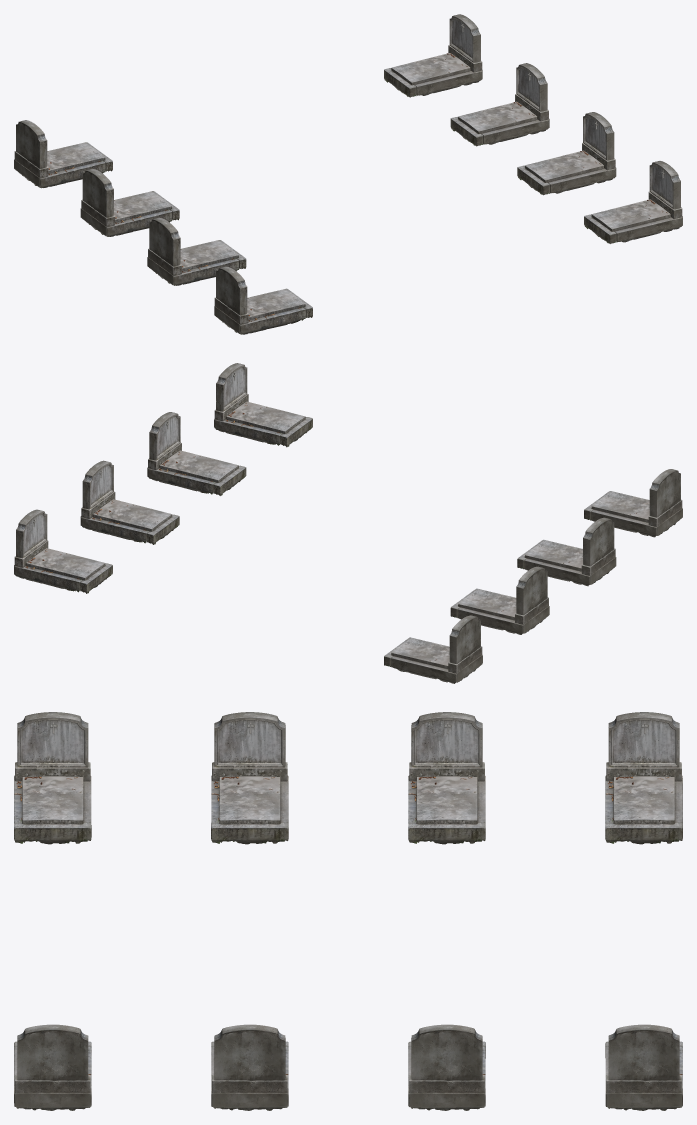
File: Tumbas.obj
The picture shows the model from 3 angles, top to bottom: view 1: azimuth 30°, elevation 25°; view 2: azimuth 150°, elevation 25°; view 3: azimuth 270°, elevation 25°; orthographic projection. The views are drawn at different scales.
Visible parts, largest first — view 1: tumba5, tumba6, tumba7, tumba8, tumba4, tumba2, tumba3, tumba1; view 2: tumba6, tumba5, tumba7, tumba8, tumba1, tumba3, tumba2, tumba4; view 3: tumba1, tumba4, tumba3, tumba2, tumba7, tumba8, tumba6, tumba5.
Part boxes in pixels (box(x1,y1,x2,y2)): tumba5: box(384, 14, 482, 97); tumba6: box(450, 63, 549, 146); tumba7: box(517, 112, 616, 195); tumba8: box(584, 161, 682, 243); tumba4: box(214, 266, 312, 334); tumba2: box(80, 169, 179, 236); tumba3: box(147, 217, 246, 285); tumba1: box(14, 120, 112, 188); tumba6: box(80, 460, 179, 544); tumba5: box(14, 509, 112, 593); tumba7: box(147, 412, 246, 495); tumba8: box(214, 363, 312, 447); tumba1: box(384, 615, 482, 683); tumba3: box(517, 517, 616, 586); tumba2: box(450, 566, 549, 634); tumba4: box(584, 469, 682, 537); tumba1: box(605, 712, 682, 844); tumba4: box(14, 712, 91, 844); tumba3: box(211, 712, 288, 844); tumba2: box(408, 712, 485, 844); tumba7: box(211, 1024, 288, 1110); tumba8: box(14, 1024, 91, 1110); tumba6: box(408, 1024, 485, 1110); tumba5: box(605, 1024, 682, 1110).
Bounding box in the file's own units: 5.75 × 0.6885 × 5.09.
8 materials, 8 textured.
